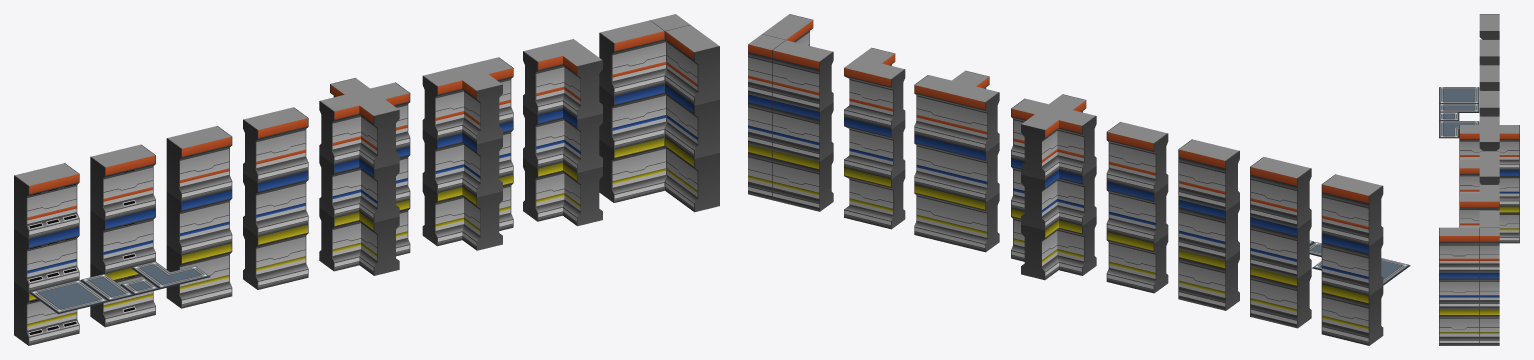
File: ModulosLaboratorio01.fbx
3 renders of one model, left to right at view 1: azimuth 30°, elevation 25°; view 2: azimuth 150°, elevation 25°; view 3: azimuth 270°, elevation 25°, orthographic. The views are drawn at different scales.
Parts seen in each view (by area): view 1: Box022, Box023, Box030, Box014, Box024, Box021, Box031, Box015, Box032, Box016, Box019, Box018 (+15 smaller); view 2: Box022, Box023, Box024, Box014, Box030, Box015, Box031, Box032, Box016, Box021, Box017, Box019 (+12 smaller); view 3: Box022, Box023, Box014, Box030, Box024, Box021, Box031, Box015, Plane329, Box018, Box019, Box017 (+4 smaller).
Part boxes in pixels (bbox=[...]): Box022: bbox=[599, 14, 719, 105]; Box023: bbox=[319, 78, 410, 169]; Box030: bbox=[599, 137, 719, 212]; Box014: bbox=[599, 84, 719, 158]; Box024: bbox=[422, 57, 513, 144]; Box021: bbox=[523, 39, 602, 119]; Box031: bbox=[319, 199, 410, 275]; Box015: bbox=[319, 146, 410, 222]; Box032: bbox=[422, 174, 513, 250]; Box016: bbox=[422, 121, 513, 197]; Box019: bbox=[166, 126, 232, 201]; Box018: bbox=[90, 144, 155, 220]; Box022: bbox=[748, 14, 833, 111]; Box023: bbox=[1011, 94, 1096, 180]; Box024: bbox=[914, 70, 999, 152]; Box014: bbox=[748, 94, 833, 161]; Box030: bbox=[748, 144, 833, 211]; Box015: bbox=[1011, 158, 1096, 230]; Box031: bbox=[1011, 208, 1096, 280]; Box032: bbox=[914, 185, 999, 252]; Box016: bbox=[914, 135, 999, 202]; Box021: bbox=[844, 47, 905, 129]; Box017: bbox=[1321, 174, 1383, 245]; Box019: bbox=[1178, 139, 1239, 210]; Box022: bbox=[1439, 210, 1499, 272]; Box023: bbox=[1459, 116, 1519, 170]; Box014: bbox=[1439, 272, 1499, 309]; Box030: bbox=[1439, 309, 1499, 345]; Box024: bbox=[1459, 151, 1499, 210]; Box021: bbox=[1459, 184, 1499, 227]; Box031: bbox=[1459, 206, 1519, 243]; Box015: bbox=[1459, 170, 1519, 206]; Plane329: bbox=[1439, 87, 1479, 104]; Box018: bbox=[1479, 39, 1499, 90]; Box019: bbox=[1479, 65, 1499, 116]; Box017: bbox=[1479, 14, 1499, 65].
Bounding box in the file's own units: 512 × 118 × 78.9.
Materials: 2 (1 with a texture image).
